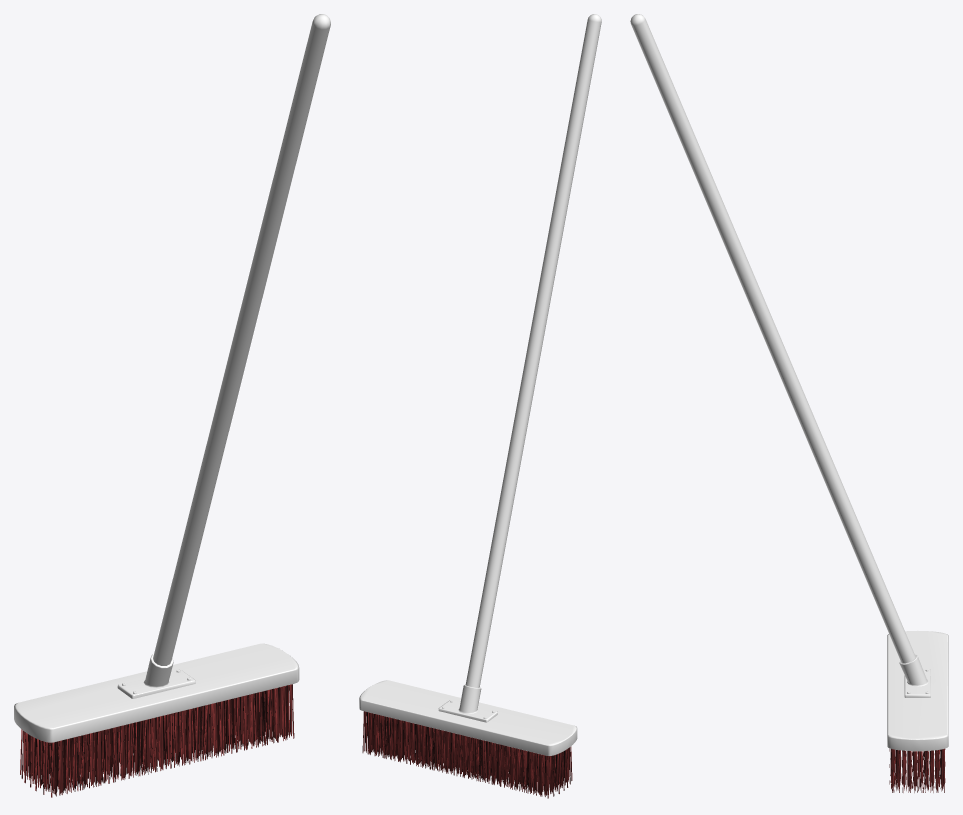
File: besen.fbx
3 renders of one model, left to right at view 1: azimuth 30°, elevation 25°; view 2: azimuth 150°, elevation 25°; view 3: azimuth 270°, elevation 25°, orthographic. The views are drawn at different scales.
Parts seen in each view (by area): view 1: Mesh; view 2: Mesh; view 3: Mesh.
Boxes of the visible parts, <box> form: Mesh: <box>14,14,330,797</box>; Mesh: <box>359,14,601,798</box>; Mesh: <box>630,14,948,792</box>.
Size of the model in its own units: 50.13 by 157 by 61.79.
